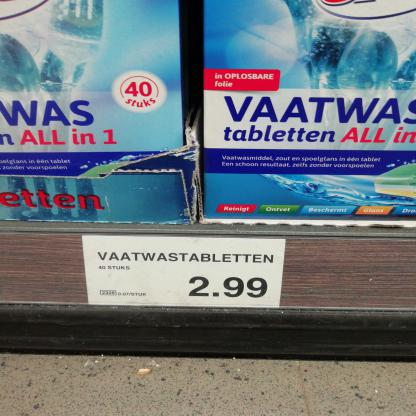prtg: (83, 237, 287, 309)
